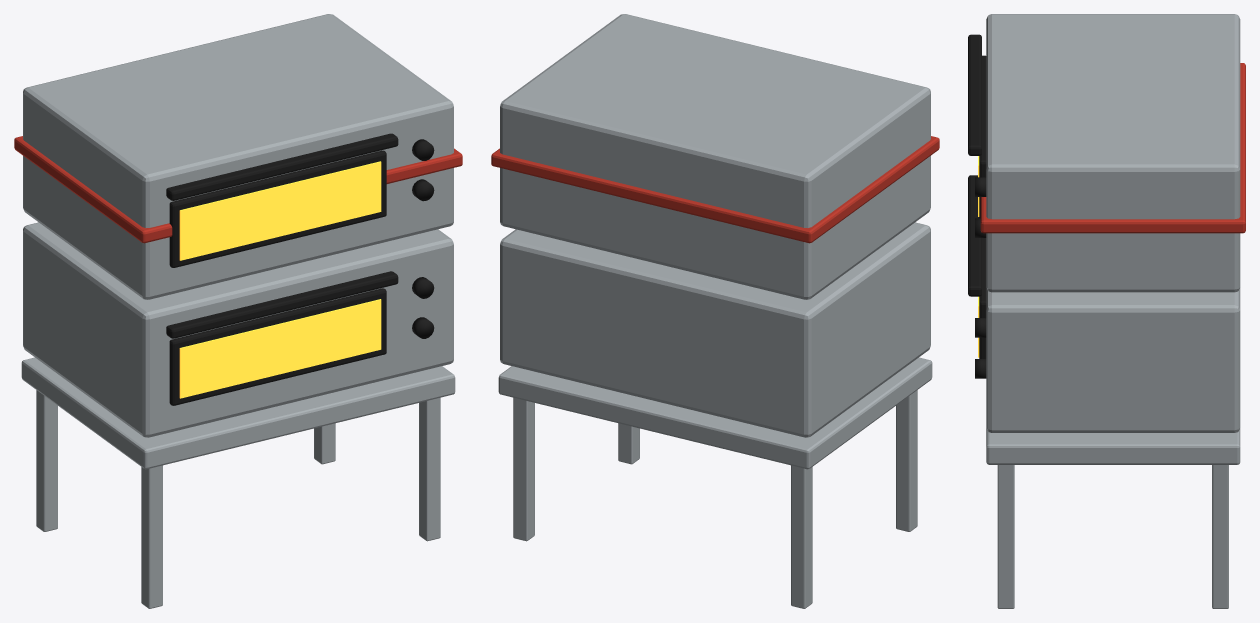
File: ofen-2-piani.glb
3 renders of one model, left to right at view 1: azimuth 30°, elevation 25°; view 2: azimuth 150°, elevation 25°; view 3: azimuth 270°, elevation 25°, orthographic. The views are drawn at different scales.
Parts seen in each view (by area): view 1: Cube.009, Cube.005, Cube, Cube.007, Cube.011, Cube.006, Cube.010, Cube.013, Cube.012, Cube.008, Cube.001, Cube.003 (+2 smaller); view 2: Cube.009, Cube.005, Cube, Cube.013, Cube.002, Cube.004, Cube.001, Cube.003; view 3: Cube.009, Cube.005, Cube, Cube.013, Cube.003, Cube.004, Cube.012, Cube.008, Cube.010, Cube.006.
Boxes of the visible parts, left/top/right/bottom form: Cube.009: left=23, top=14, right=453, bottom=299; Cube.005: left=23, top=222, right=453, bottom=437; Cube: left=21, top=357, right=455, bottom=469; Cube.007: left=179, top=299, right=381, bottom=398; Cube.011: left=179, top=161, right=381, bottom=260; Cube.006: left=169, top=288, right=386, bottom=405; Cube.010: left=169, top=150, right=386, bottom=267; Cube.013: left=14, top=136, right=462, bottom=243; Cube.012: left=166, top=133, right=398, bottom=200; Cube.008: left=166, top=271, right=398, bottom=338; Cube.001: left=141, top=465, right=162, bottom=608; Cube.003: left=419, top=397, right=440, bottom=541; Cube.009: left=500, top=14, right=930, bottom=299; Cube.005: left=500, top=222, right=930, bottom=437; Cube: left=498, top=357, right=932, bottom=469; Cube.013: left=491, top=136, right=939, bottom=243; Cube.002: left=791, top=465, right=812, bottom=608; Cube.004: left=513, top=397, right=534, bottom=541; Cube.001: left=896, top=390, right=917, bottom=531; Cube.003: left=618, top=423, right=639, bottom=464; Cube.009: left=986, top=14, right=1240, bottom=292; Cube.005: left=986, top=287, right=1240, bottom=432; Cube: left=986, top=428, right=1240, bottom=464; Cube.013: left=980, top=63, right=1245, bottom=233; Cube.003: left=997, top=465, right=1014, bottom=608; Cube.004: left=1212, top=465, right=1228, bottom=608; Cube.012: left=968, top=34, right=981, bottom=155; Cube.008: left=968, top=175, right=981, bottom=296; Cube.010: left=979, top=55, right=986, bottom=218; Cube.006: left=979, top=238, right=986, bottom=358.
Bounding box in the file's own units: 1.34 × 1.75 × 0.985.
